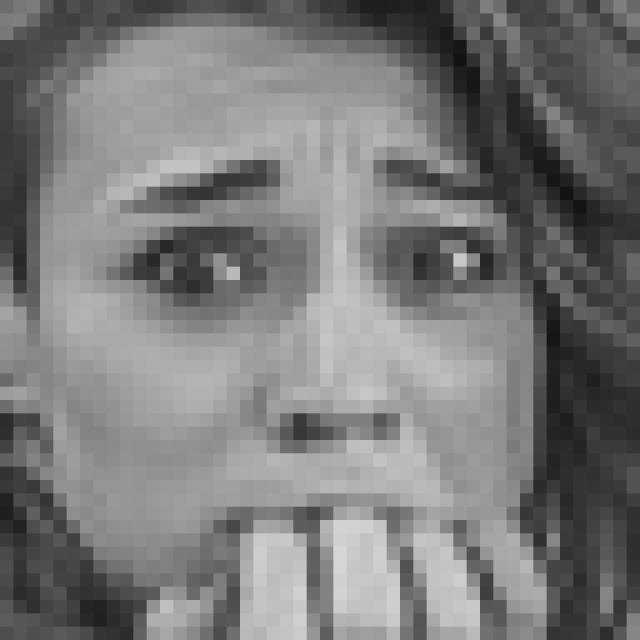fear: (111, 135, 522, 606)
